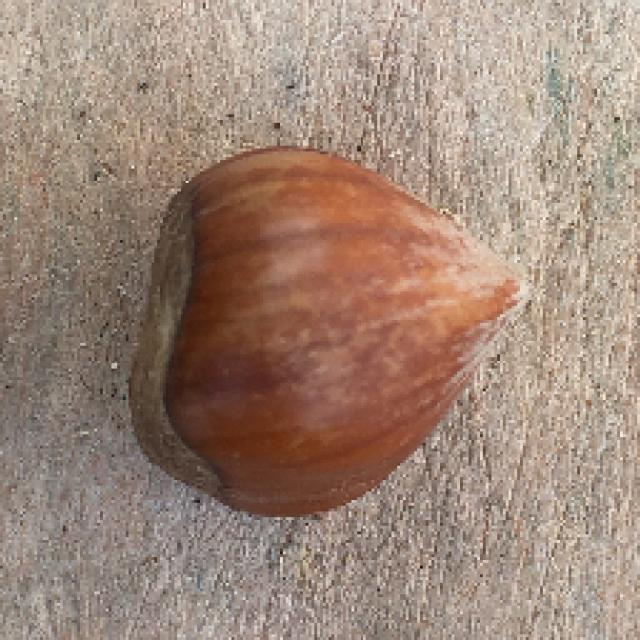qualityHazelnut: (126, 128, 530, 532)
